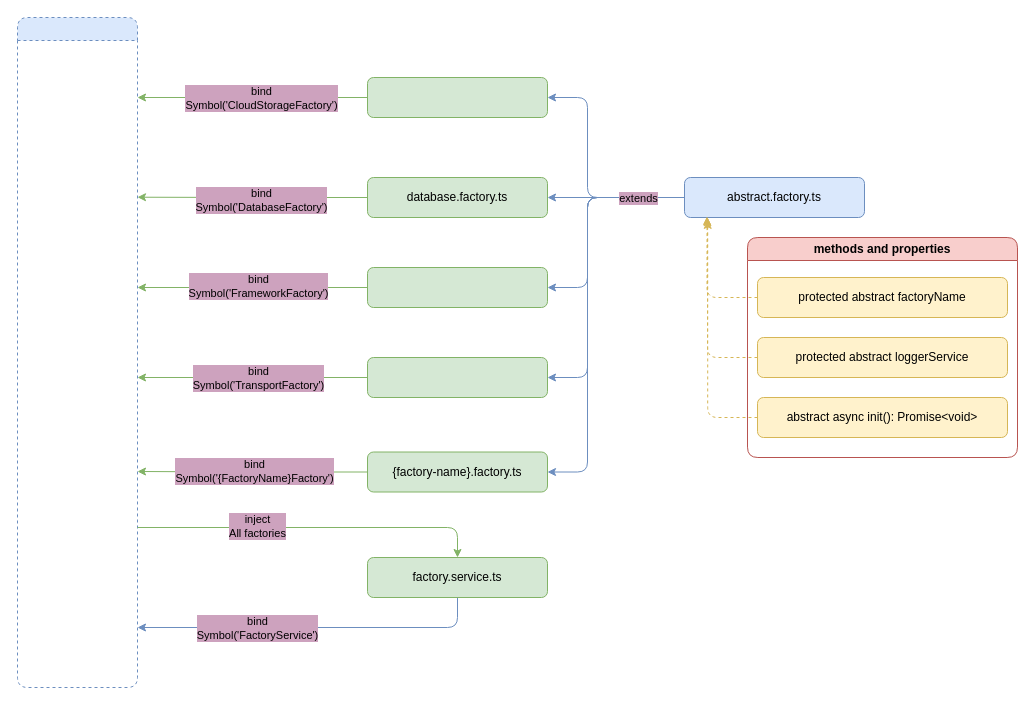
This 1035x705 diagram has some shape labels left out. Here are the shapes that lost their labels. From the top down, the centre of each, then its label:
At point (457, 97): "cloud-storage.factory.ts".
At point (457, 287): "framework.factory.ts".
At point (77, 352): "ioc.core.ts".
At point (457, 377): "transport.factory.ts".
